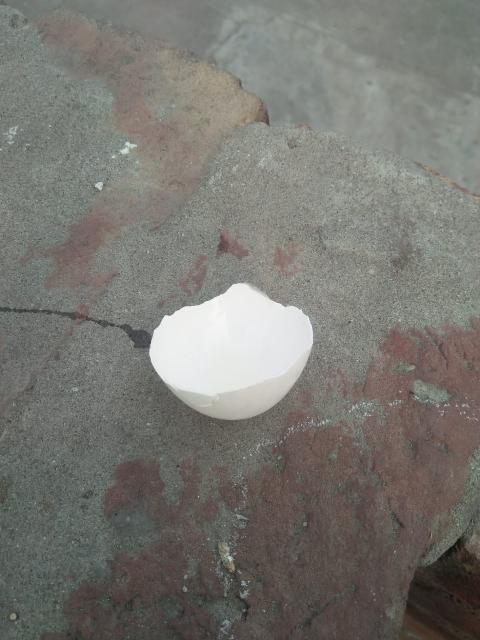Roto: (148, 281, 314, 421)
